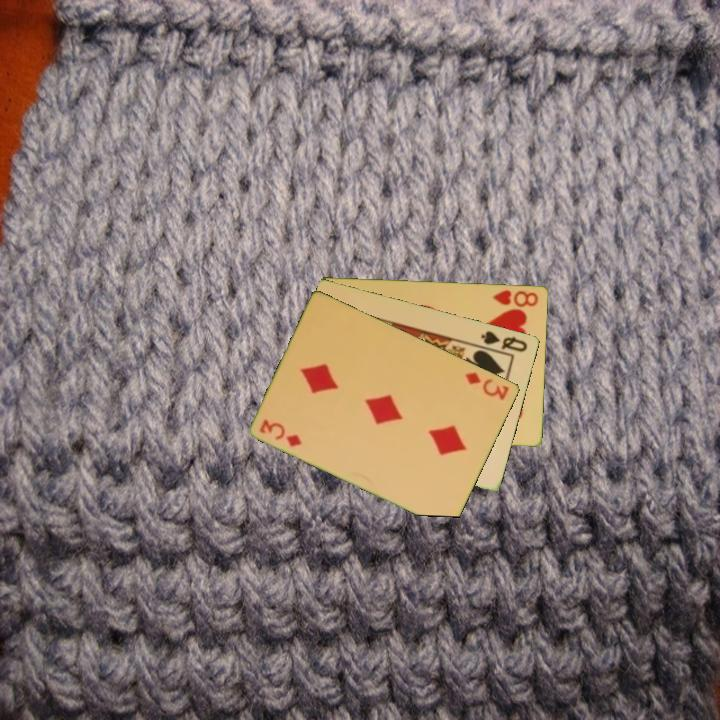3d: (462, 368, 512, 403), (256, 415, 305, 449)
8h: (489, 286, 541, 310)
Qs: (478, 327, 531, 354)
